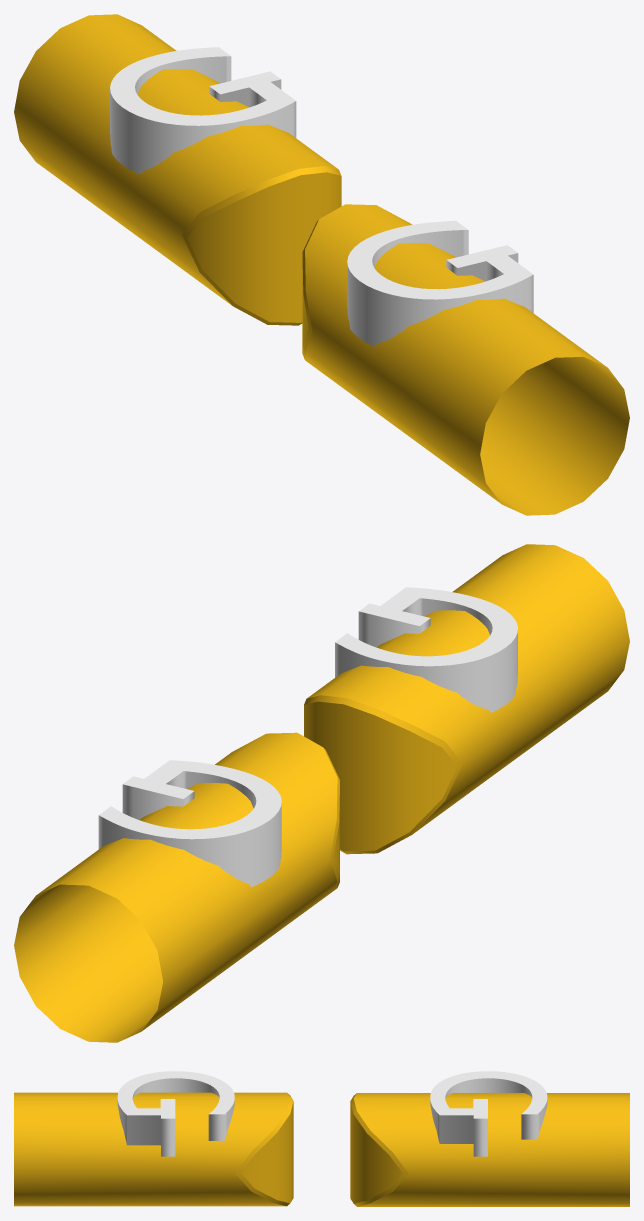
File: G_nucleotide.fbx
3 renders of one model, top to bottom at view 1: azimuth 30°, elevation 25°; view 2: azimuth 150°, elevation 25°; view 3: azimuth 270°, elevation 25°, orthographic. The views are drawn at different scales.
Parts seen in each view (by area): view 1: Nucleotide_G_Rev, Nucleotide_G; view 2: Nucleotide_G, Nucleotide_G_Rev; view 3: Nucleotide_G_Rev, Nucleotide_G.
Part boxes in pixels (<box>): Nucleotide_G_Rev: <box>302,204,629,515</box>; Nucleotide_G: <box>14,14,341,325</box>; Nucleotide_G: <box>14,732,339,1042</box>; Nucleotide_G_Rev: <box>304,544,629,854</box>; Nucleotide_G_Rev: <box>14,1071,293,1206</box>; Nucleotide_G: <box>350,1071,629,1206</box>.
Size of the model in its own units: 1.65 by 1.68 by 8.83.
